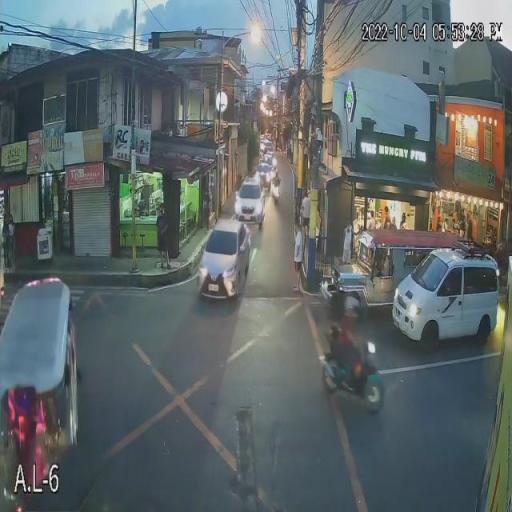helmet: (344, 297, 361, 322)
motorcycle: (326, 340, 381, 410)
rider: (341, 318, 356, 379)
